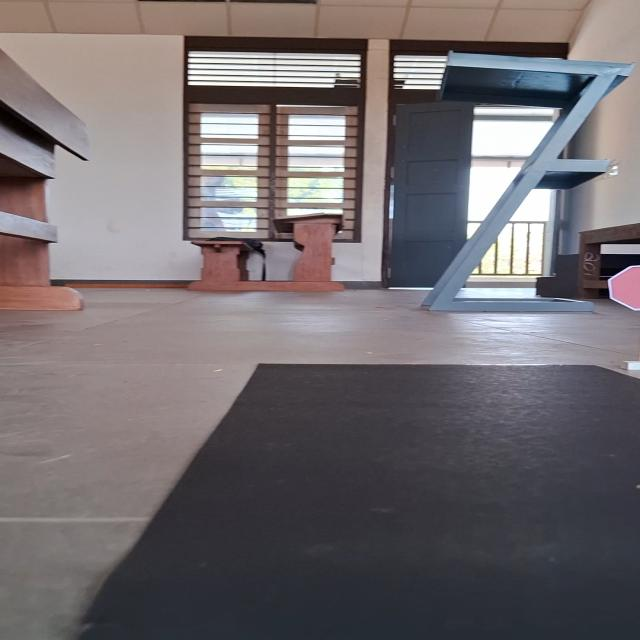Stop: (604, 264, 640, 312)
